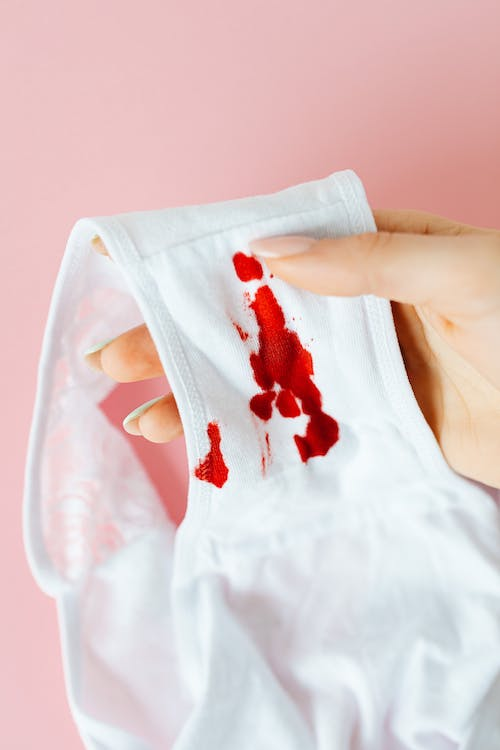blood: (191, 249, 341, 492)
